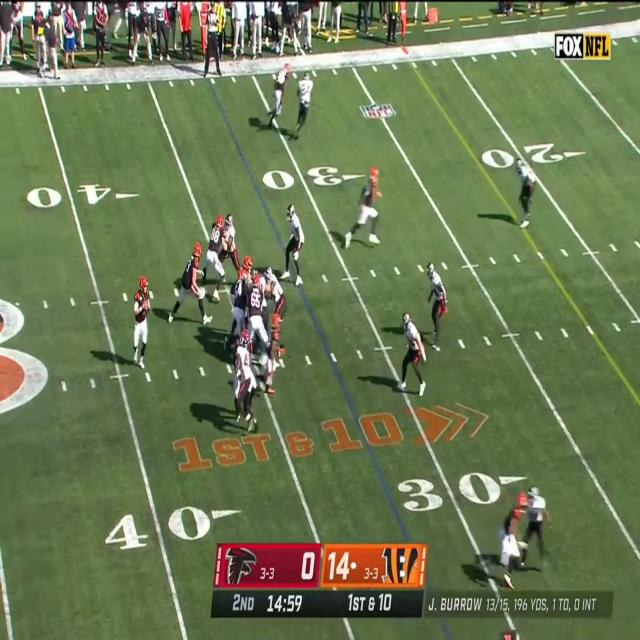Ball: (144, 300, 150, 314)
